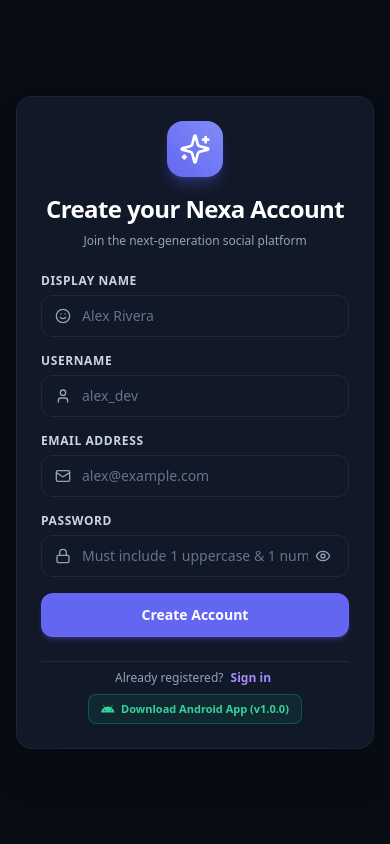
Web Authentication and Accessibility Suite › RegisterPage Accessibility & Validation › enforces password complexity and format validation matching server rules
The width and height of the screenshot is (390, 844).
Note: Enter invalid data
Type "A" into the field labelled "Display Name". click: x=195, y=316
box: left=41, top=294, right=349, bottom=336
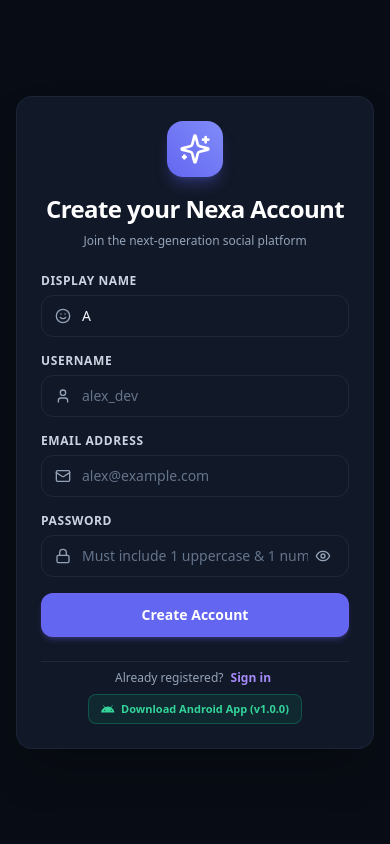
Type "invalid user!" into the field labelled "Username". click: x=195, y=396
box: left=41, top=374, right=349, bottom=416
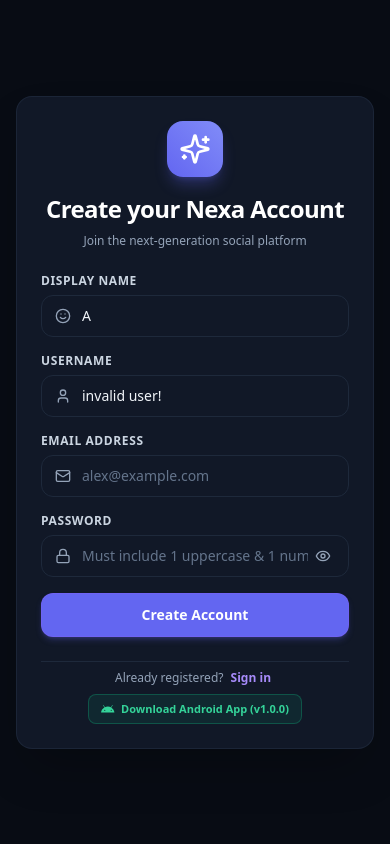
Type "not-an-email" into the field labelled "Email Address". click: x=195, y=476
box: left=41, top=454, right=349, bottom=496
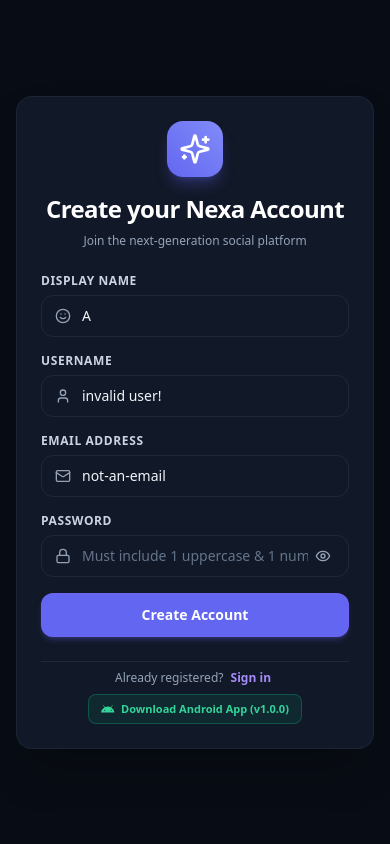
Type "simple" into the password field labelled "Password". click: x=195, y=556
box: left=41, top=534, right=349, bottom=576
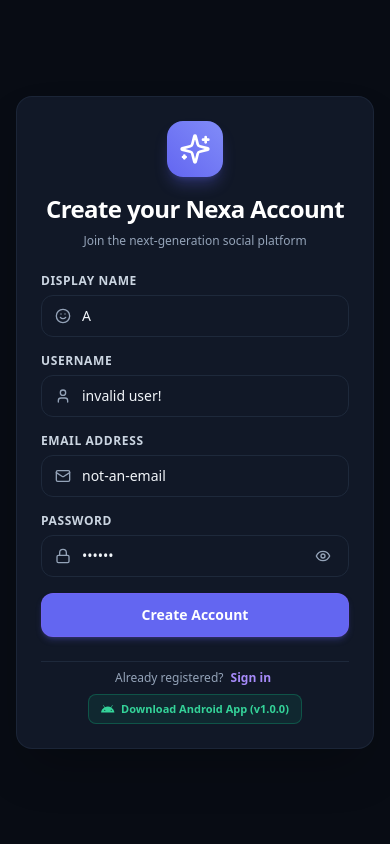
Click the button "Create Account". click: x=195, y=614
box: left=41, top=592, right=349, bottom=636
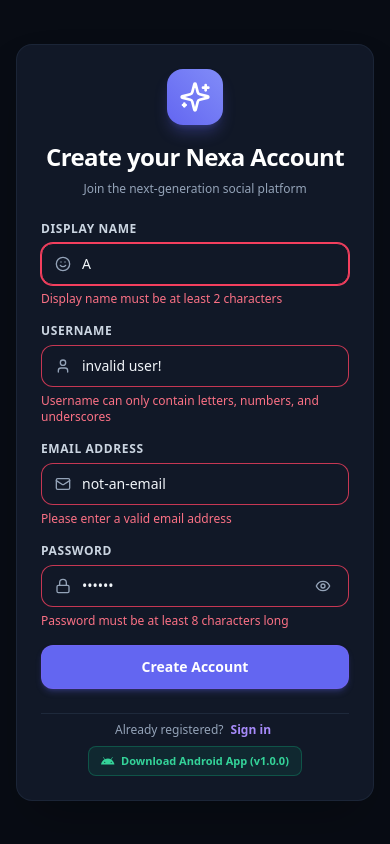
Now the text "Display name must be at least 2 characters" is shown, box left=41, top=290, right=282, bottom=306
Now the text "Username can only contain letters, numbers, and underscores" is shown, box left=41, top=392, right=349, bottom=424
Now the text "Please enter a valid email address" is shown, box left=41, top=510, right=232, bottom=526
